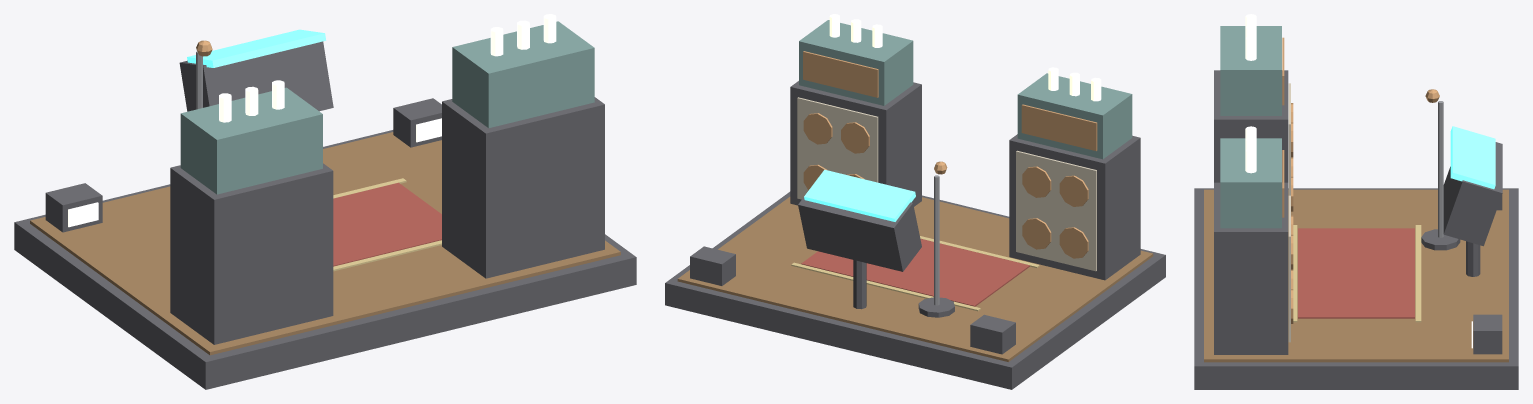
Rendered from guitar_stage.glb.
3 views of the same model, side by side, from view 1: azimuth 30°, elevation 25°; view 2: azimuth 150°, elevation 25°; view 3: azimuth 270°, elevation 25° (orthographic). The views are drawn at different scales.
Parts seen in each view (by area): view 1: GuitarStage; view 2: GuitarStage; view 3: GuitarStage.
Part boxes in pixels (bbox=[...]): GuitarStage: bbox=[14, 14, 636, 389]; GuitarStage: bbox=[665, 14, 1165, 389]; GuitarStage: bbox=[1194, 14, 1518, 389].
Bounding box in the file's own units: 2.6 × 1.48 × 2.
